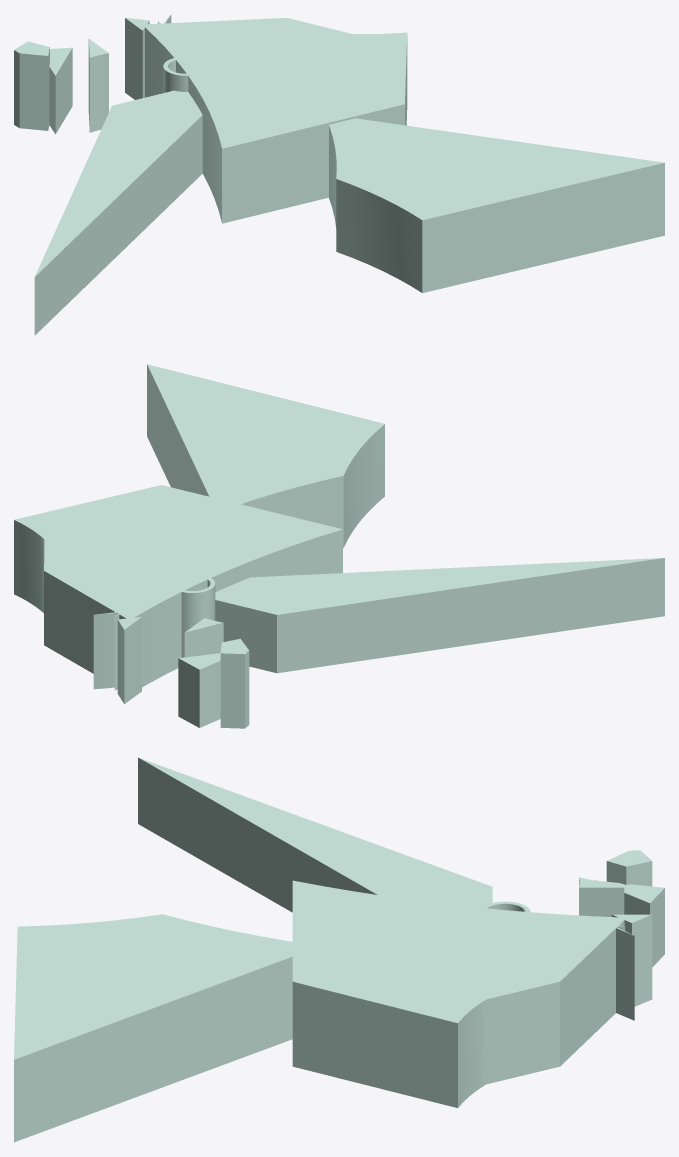
The picture shows the model from 3 angles, top to bottom: view 1: azimuth 30°, elevation 25°; view 2: azimuth 150°, elevation 25°; view 3: azimuth 270°, elevation 25°; orthographic projection. The views are drawn at different scales.
Visible parts, largest first — view 1: Renderer Node; view 2: Renderer Node; view 3: Renderer Node.
Part boxes in pixels (bbox=[...]): Renderer Node: bbox=[14, 14, 664, 335]; Renderer Node: bbox=[14, 364, 664, 728]; Renderer Node: bbox=[14, 757, 664, 1142].
Size of the model in its own units: 2.32 by 0.2891 by 2.01.
